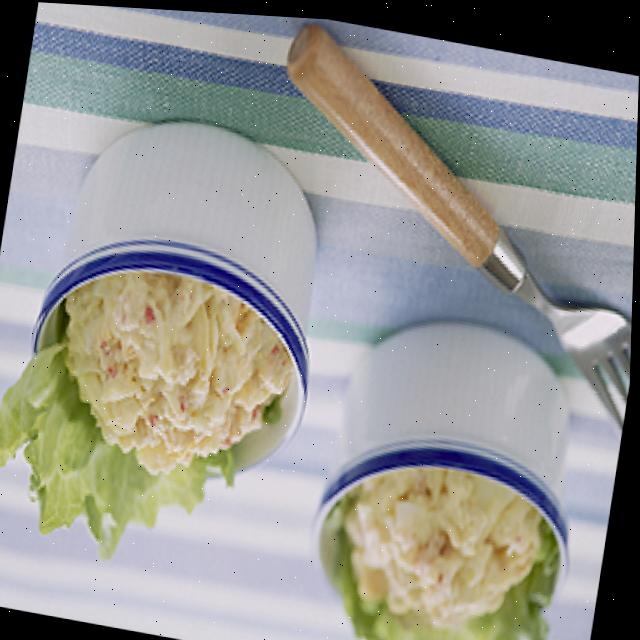蔬菜料理: (0, 208, 321, 562), (299, 437, 585, 640)
